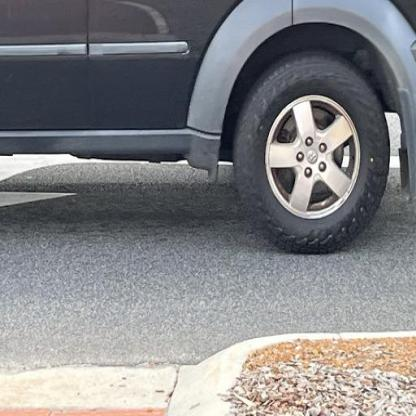Tire: (232, 52, 391, 255)
